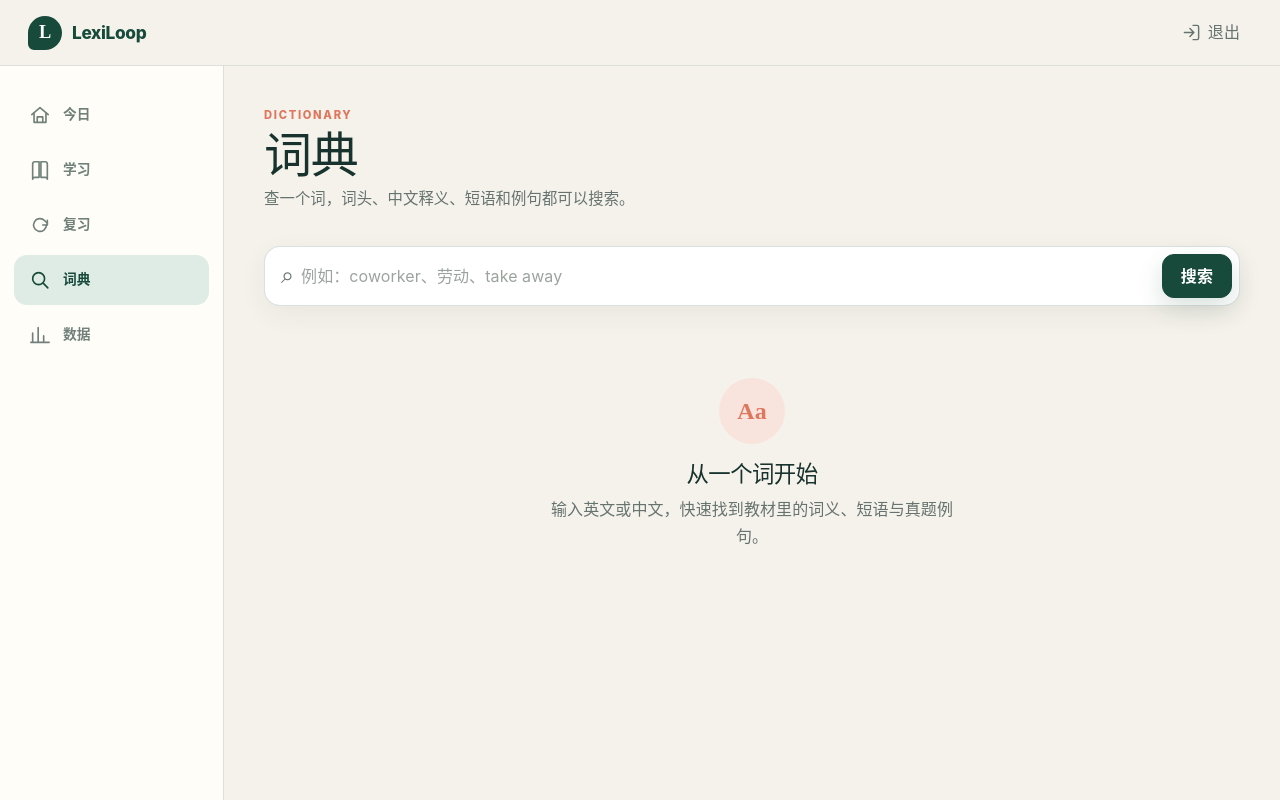
Test: dictionary search › renders an empty state without fabricating results
Expected: the heading "词典" is shown, [264,125,358,184]
Step 1. Type "empty" into the search field named "搜索词或释义" → (728, 276), box [301,254,1155,298]
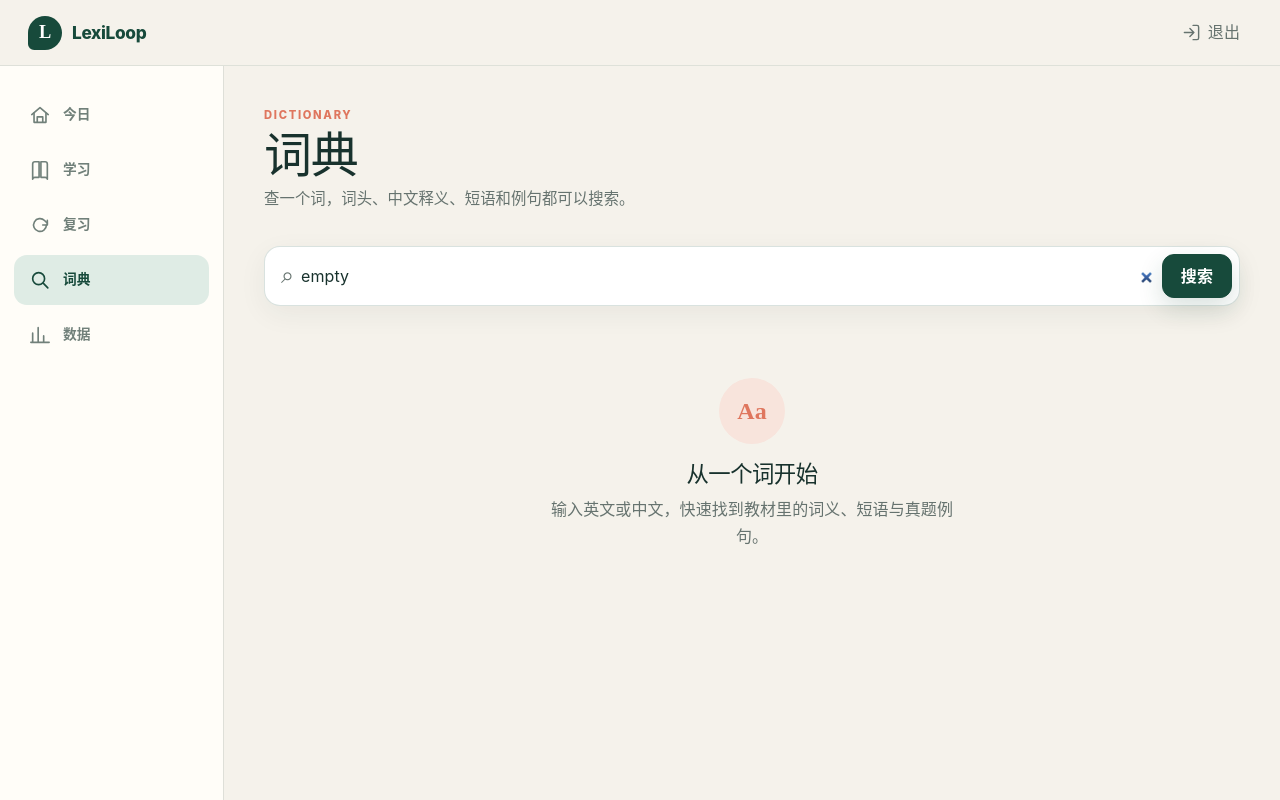
Step 2. Click the button "搜索" → (1197, 276), box [1162,254,1232,298]
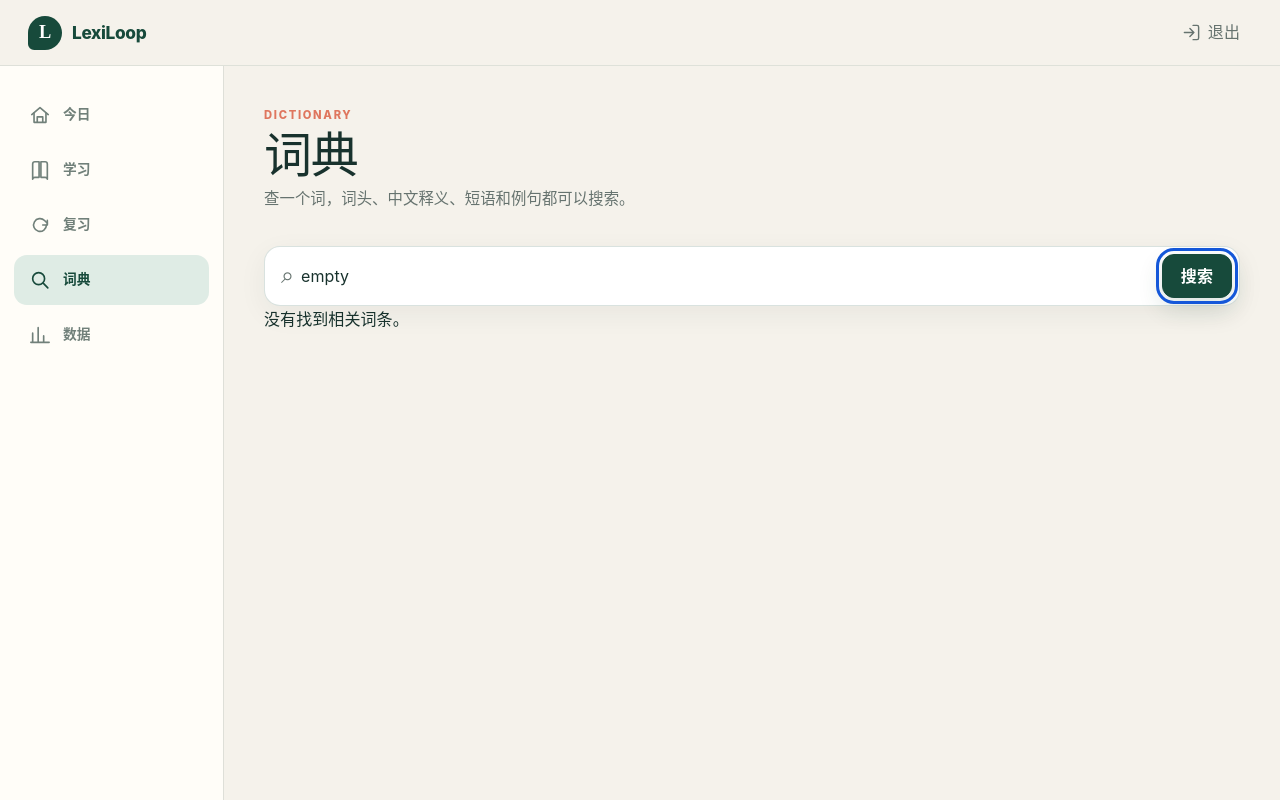
Result: the text "没有找到相关词条。" is shown at [264,309,409,329]
